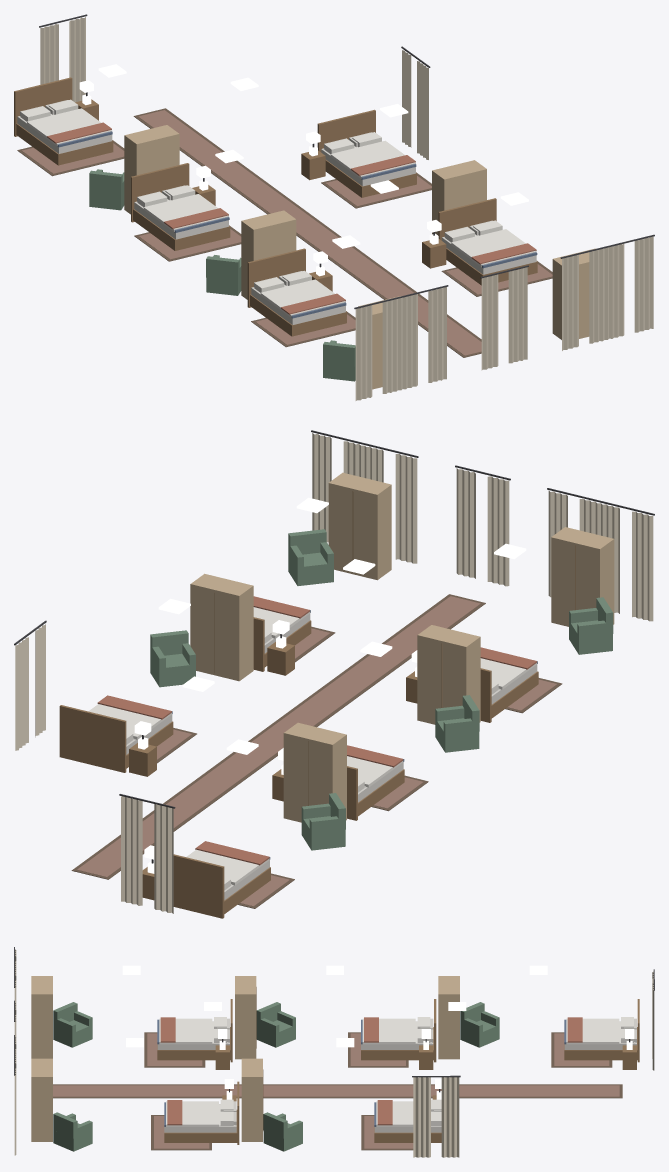
File: fine-s2.glb
3 views of the same model, one above another, from view 1: azimuth 30°, elevation 25°; view 2: azimuth 150°, elevation 25°; view 3: azimuth 270°, elevation 25° (orthographic). The views are drawn at different scales.
Parts seen in each view (by area): view 1: soft-s2, bed-frame.009, bed-frame.007, bed-frame.008, bed-frame.005, bed-frame.006, dresser.007, dresser.008, dresser.005, dresser.006, lounge-chair.008, lounge-chair.007 (+4 smaller); view 2: soft-s2, dresser.005, dresser.006, dresser.008, dresser.009, dresser.007, bed-frame.005, bed-frame.007, lounge-chair.006, lounge-chair.005, lounge-chair.008, lounge-chair.007 (+6 smaller); view 3: soft-s2, dresser.005, dresser.006, dresser.008, dresser.009, dresser.007, bed-frame.006, lounge-chair.009, lounge-chair.008, lounge-chair.007, bed-frame.007, bed-frame.009 (+7 smaller).
Boxes of the visible parts, <box> form: soft-s2: <box>17,14,654,400</box>; bed-frame.009: <box>247,248,346,336</box>; bed-frame.007: <box>14,77,113,165</box>; bed-frame.008: <box>131,163,230,250</box>; bed-frame.005: <box>317,109,416,197</box>; bed-frame.006: <box>438,198,537,285</box>; dresser.007: <box>124,125,179,214</box>; dresser.008: <box>241,210,296,299</box>; dresser.005: <box>432,160,486,235</box>; dresser.006: <box>552,248,597,339</box>; lounge-chair.008: <box>206,255,241,295</box>; lounge-chair.007: <box>89,169,124,210</box>; soft-s2: <box>14,430,654,913</box>; dresser.005: <box>190,573,253,681</box>; dresser.006: <box>328,472,391,580</box>; dresser.008: <box>417,625,480,724</box>; dresser.009: <box>551,527,614,626</box>; dresser.007: <box>283,722,346,822</box>; bed-frame.005: <box>59,705,173,772</box>; bed-frame.007: <box>173,854,270,918</box>; lounge-chair.006: <box>288,529,333,585</box>; lounge-chair.005: <box>150,630,195,687</box>; lounge-chair.008: <box>435,695,479,752</box>; lounge-chair.007: <box>301,793,345,850</box>; soft-s2: <box>14,947,654,1157</box>; dresser.005: <box>241,1058,263,1141</box>; dresser.006: <box>31,1058,52,1141</box>; dresser.008: <box>235,976,256,1059</box>; dresser.009: <box>31,976,52,1058</box>; dresser.007: <box>438,976,459,1059</box>; bed-frame.006: <box>164,1081,239,1144</box>; lounge-chair.009: <box>53,1002,92,1047</box>; lounge-chair.008: <box>256,1002,295,1047</box>; lounge-chair.007: <box>460,1002,499,1047</box>; bed-frame.007: <box>564,999,639,1062</box>; bed-frame.009: <box>157,999,232,1062</box>.
Bounding box in the file's own units: 8.53 × 2.65 × 17.88.
